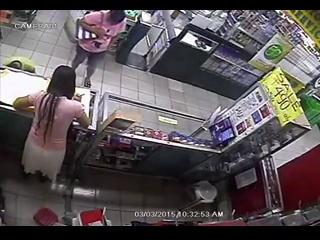Normal: (12, 65, 92, 190), (70, 10, 128, 89)
